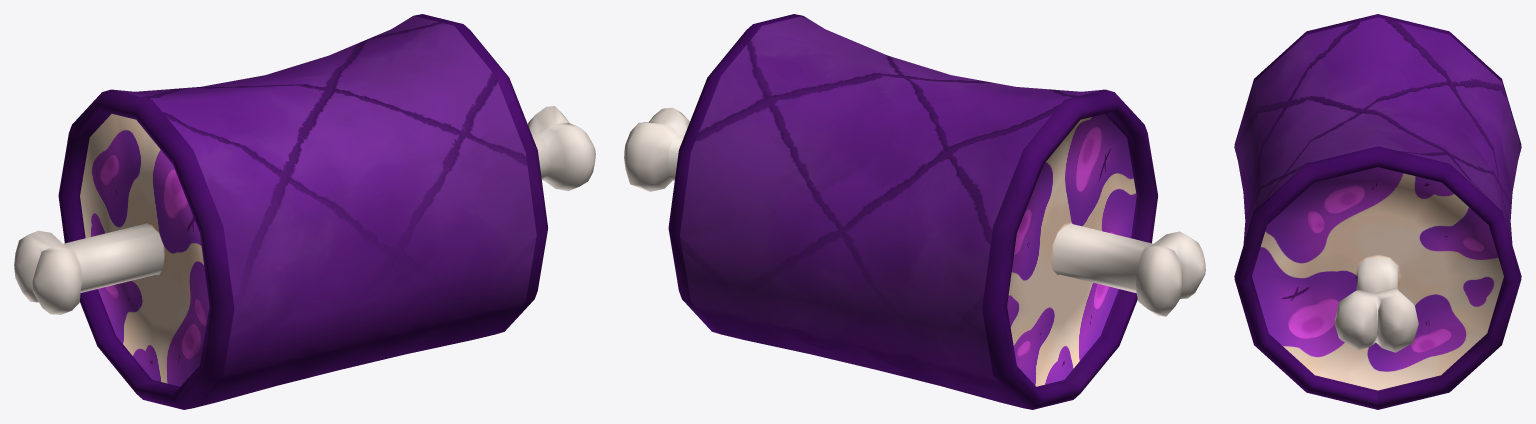
The model's file is carne.fbx.
The picture shows the model from 3 angles, left to right: view 1: azimuth 30°, elevation 25°; view 2: azimuth 150°, elevation 25°; view 3: azimuth 270°, elevation 25°; orthographic projection. The views are drawn at different scales.
Parts seen in each view (by area): view 1: Jamon (Monstruo); view 2: Jamon (Monstruo); view 3: Jamon (Monstruo).
Part boxes in pixels (bbox=[...]): Jamon (Monstruo): bbox=[14, 14, 595, 409]; Jamon (Monstruo): bbox=[624, 14, 1205, 409]; Jamon (Monstruo): bbox=[1234, 14, 1521, 409].
Bounding box in the file's own units: 39.6 × 20.16 × 20.13.
